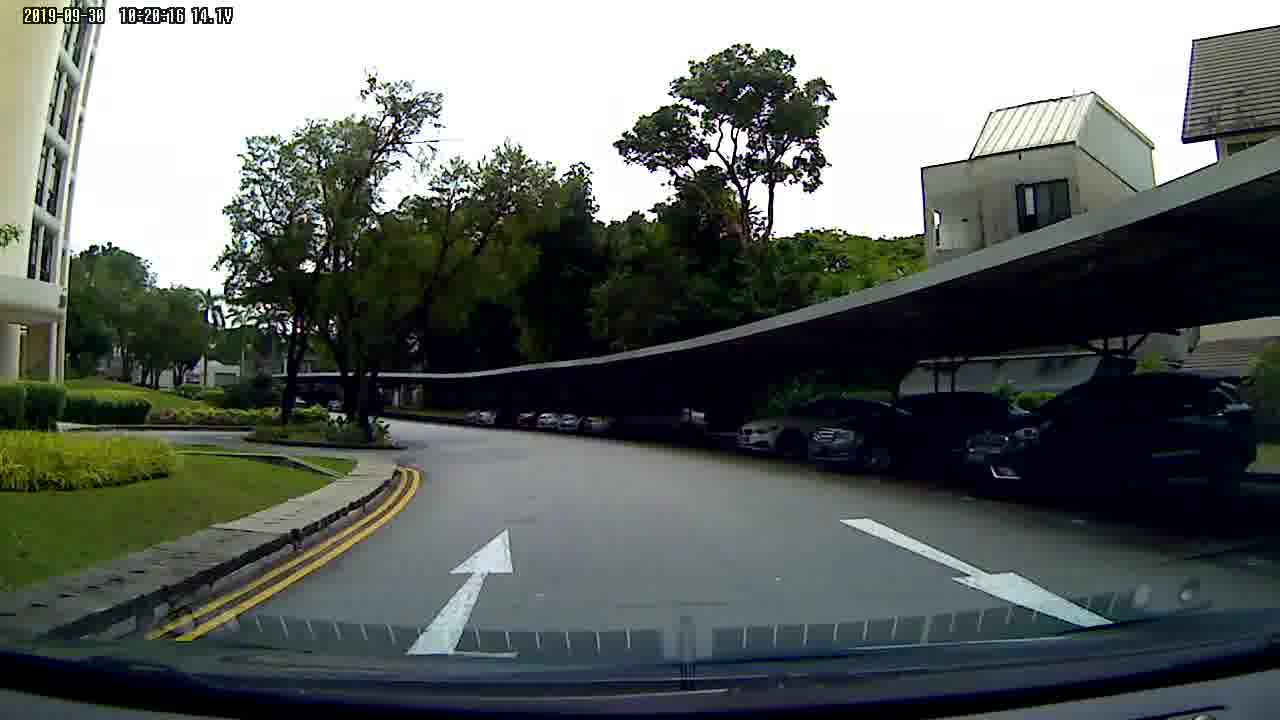car: (957, 370, 1259, 505), (804, 388, 961, 481)
